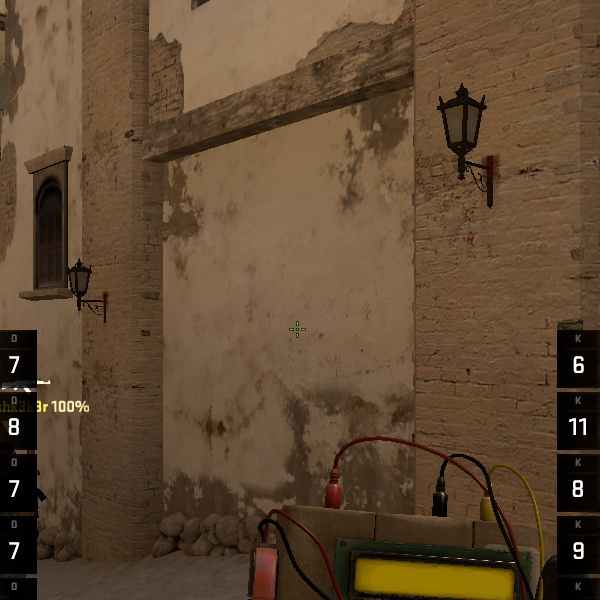t_body: (1, 436, 60, 600)
t_head: (2, 438, 37, 473)
